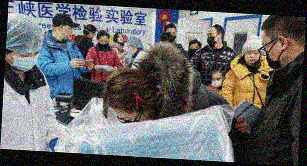with_mask: (260, 39, 285, 70), (11, 47, 41, 72), (206, 31, 220, 46), (210, 75, 224, 89), (188, 44, 200, 56), (97, 39, 109, 50), (166, 31, 177, 42), (126, 44, 136, 56), (90, 32, 97, 43)
without_mask: (244, 50, 261, 64), (62, 25, 74, 40), (117, 35, 125, 44)
